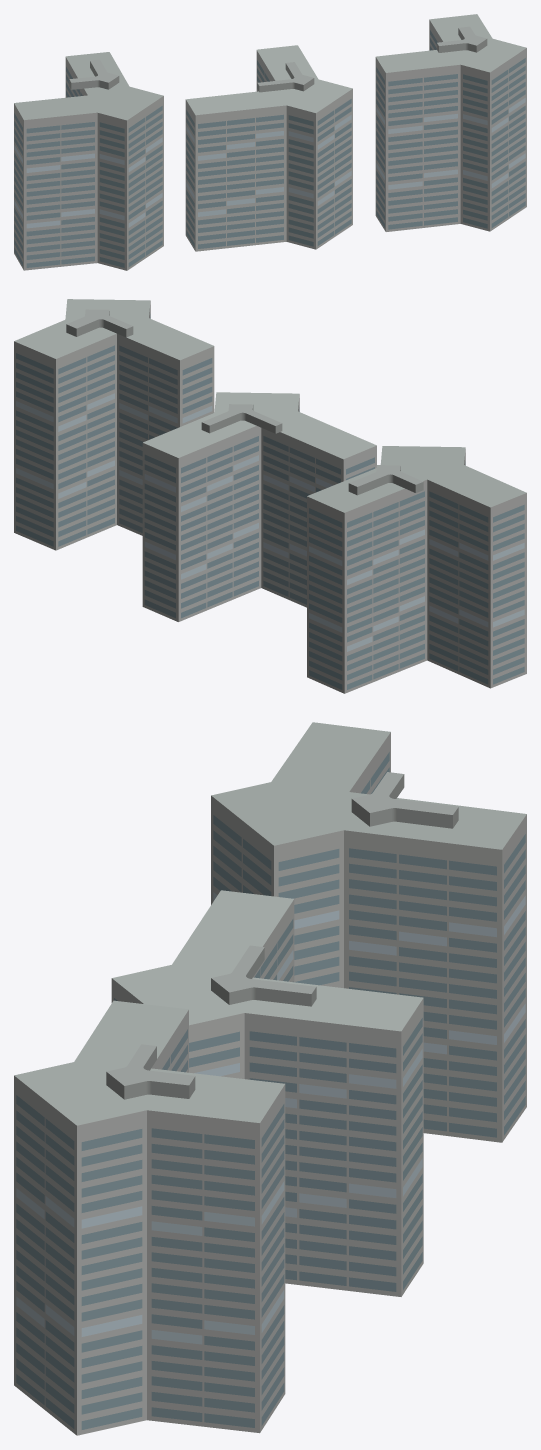
File: apt-a13380301.glb
The picture shows the model from 3 angles, top to bottom: view 1: azimuth 30°, elevation 25°; view 2: azimuth 150°, elevation 25°; view 3: azimuth 270°, elevation 25°; orthographic projection. The views are drawn at different scales.
Parts seen in each view (by area): view 1: apt-a13380301; view 2: apt-a13380301; view 3: apt-a13380301.
Boxes of the visible parts, x1,y1,x2,y2 form: apt-a13380301: (14, 14, 526, 270); apt-a13380301: (14, 299, 526, 693); apt-a13380301: (14, 722, 526, 1435).
Bounding box in the file's own units: 159 × 57 × 81.89.
